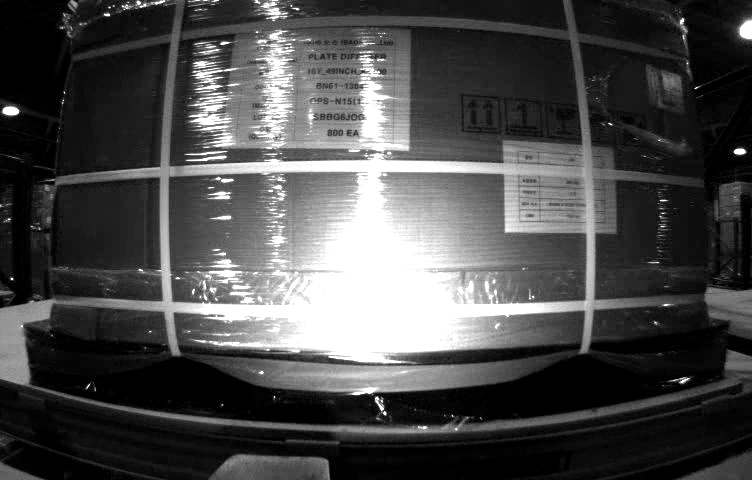True Barcode: (646, 65, 686, 112)
